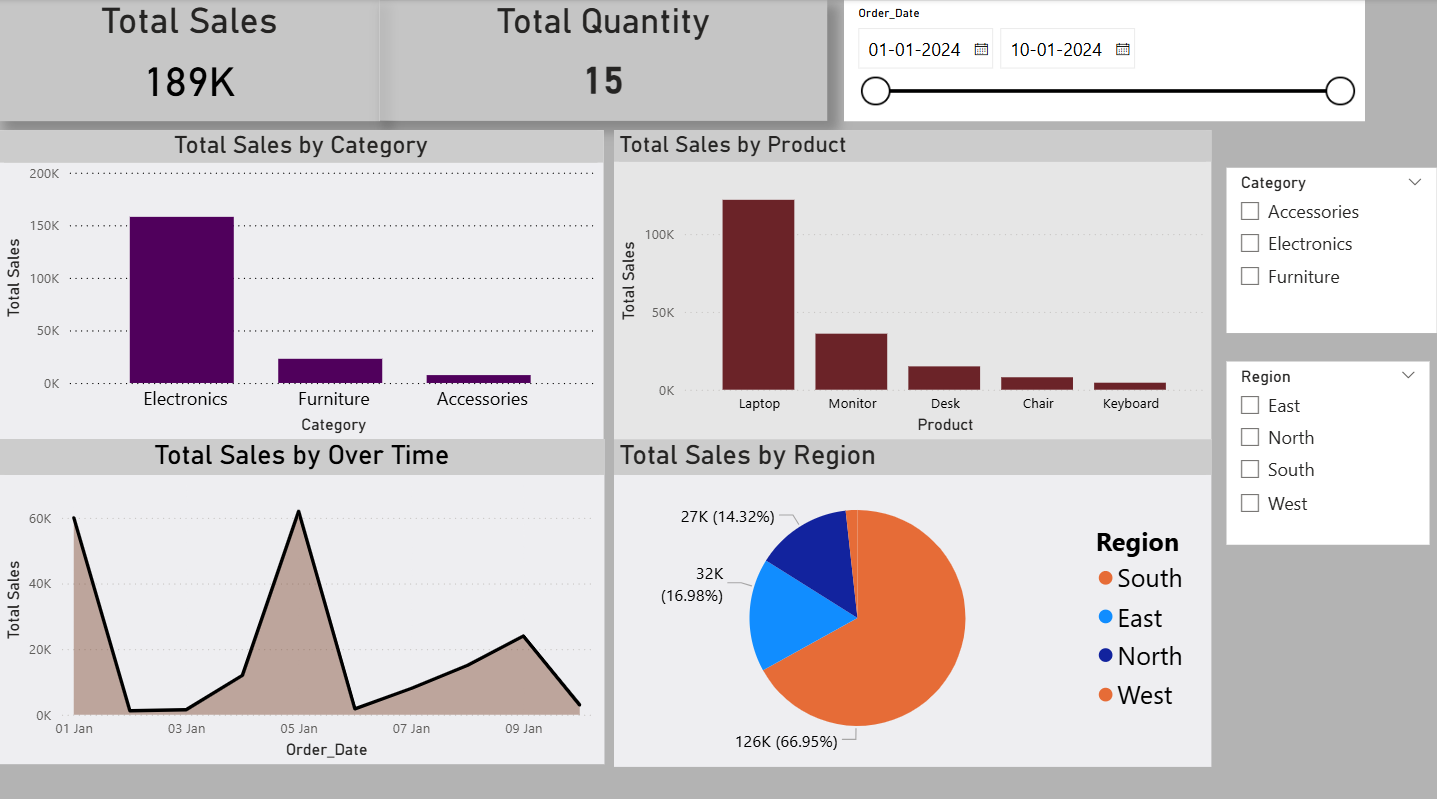

This screenshot's page, from the dashboard's own definition file:
{"tool":"powerbi","page":{"name":"Page 1","canvas":[1280,720],"ordinal":0},"visuals":[{"type":"card","title":"Total Sales","fields":{"Values":["retail_sales.Total Sales"]},"box":[0,0,338.9,108.4],"z":0},{"type":"card","title":"Total Quantity","fields":{"Values":["retail_sales.Total Quantity"]},"box":[338.9,1.4,399.3,107],"z":1000},{"type":"clusteredColumnChart","fields":{"Category":["retail_sales.Category"],"Y":["retail_sales.Total Sales"]},"box":[0,117,538.1,275.1],"z":2000},{"type":"lineChart","title":"Total Sales by Over Time","fields":{"Y":["retail_sales.Total Sales"],"Category":["retail_sales.Order_Date"]},"box":[0,392.1,539.3,289.5],"z":3000},{"type":"pieChart","fields":{"Category":["retail_sales.Region"],"Y":["retail_sales.Total Sales"]},"box":[547.7,392.1,532,292],"z":4000},{"type":"slicer","fields":{"Values":["retail_sales.Category"]},"box":[1093,150.8,187,147.2],"z":5000},{"type":"slicer","fields":{"Values":["retail_sales.Order_Date"]},"box":[752.8,1.2,463.3,107.4],"z":6000},{"type":"clusteredColumnChart","fields":{"Category":["retail_sales.Product"],"Y":["retail_sales.Total Sales"]},"box":[547.7,117,532,275.1],"z":7000},{"type":"slicer","fields":{"Values":["retail_sales.Region"]},"box":[1093,323.3,181,162.9],"z":8000}]}

Visuals, with their boxes in screenshot pixels (x1, y1, x2, y2), scaled from the page's 1280x720 canvas onto the 1437x799 screenshot:
"Total Sales" card: <region>0, 0, 380, 120</region>
"Total Quantity" card: <region>380, 2, 829, 120</region>
clusteredColumnChart - retail_sales.Category x retail_sales.Total Sales: <region>0, 130, 604, 435</region>
"Total Sales by Over Time" lineChart: <region>0, 435, 605, 756</region>
pieChart - retail_sales.Region x retail_sales.Total Sales: <region>615, 435, 1212, 759</region>
slicer - retail_sales.Category: <region>1227, 167, 1436, 331</region>
slicer - retail_sales.Order_Date: <region>845, 1, 1365, 121</region>
clusteredColumnChart - retail_sales.Product x retail_sales.Total Sales: <region>615, 130, 1212, 435</region>
slicer - retail_sales.Region: <region>1227, 359, 1430, 540</region>
